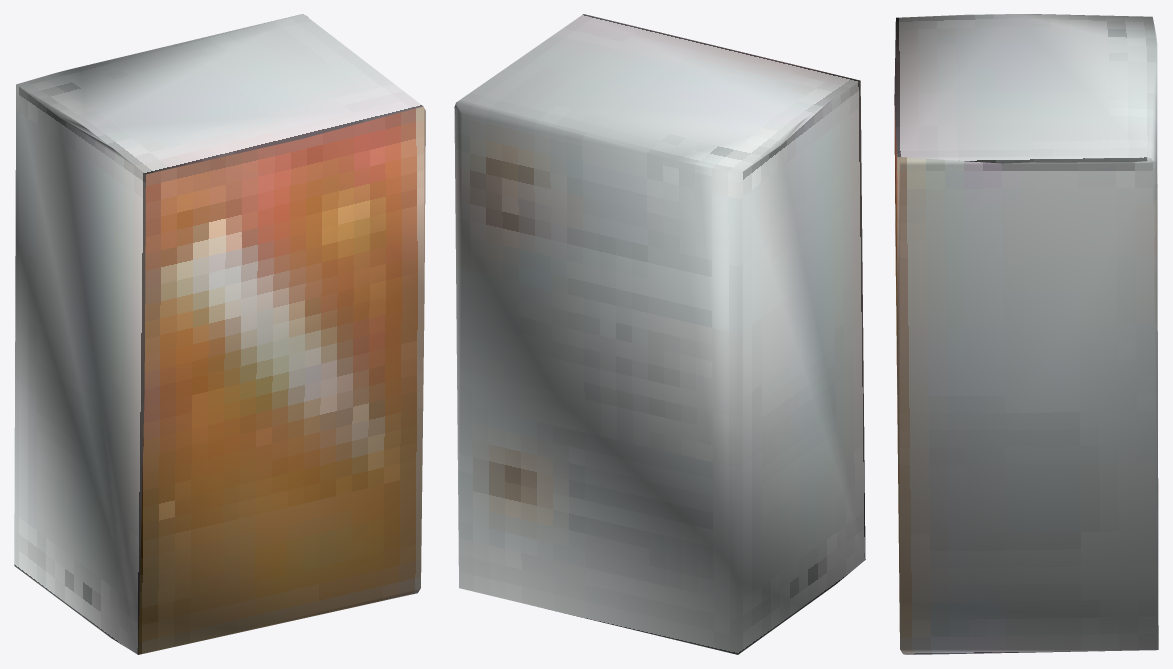
The model's file is Perricone_MD_Vitamin_C_Ester_15-low.glb.
3 renders of one model, left to right at view 1: azimuth 30°, elevation 25°; view 2: azimuth 150°, elevation 25°; view 3: azimuth 270°, elevation 25°, orthographic. The views are drawn at different scales.
Visible parts, largest first — view 1: Perricone_MD_Vitamin_C_Ester_15; view 2: Perricone_MD_Vitamin_C_Ester_15; view 3: Perricone_MD_Vitamin_C_Ester_15.
Boxes of the visible parts, box(x1,y1,x2,y2) form: Perricone_MD_Vitamin_C_Ester_15: box(14, 14, 425, 654); Perricone_MD_Vitamin_C_Ester_15: box(454, 14, 865, 654); Perricone_MD_Vitamin_C_Ester_15: box(894, 14, 1158, 654).
Bounding box in the file's own units: 0.0802 × 0.1299 × 0.0618.
Materials: 1 (1 with a texture image).
